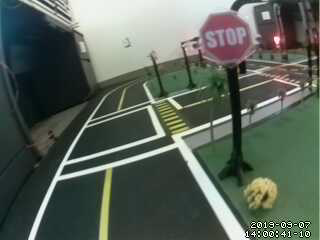Stop_Sign: (196, 10, 261, 73)
